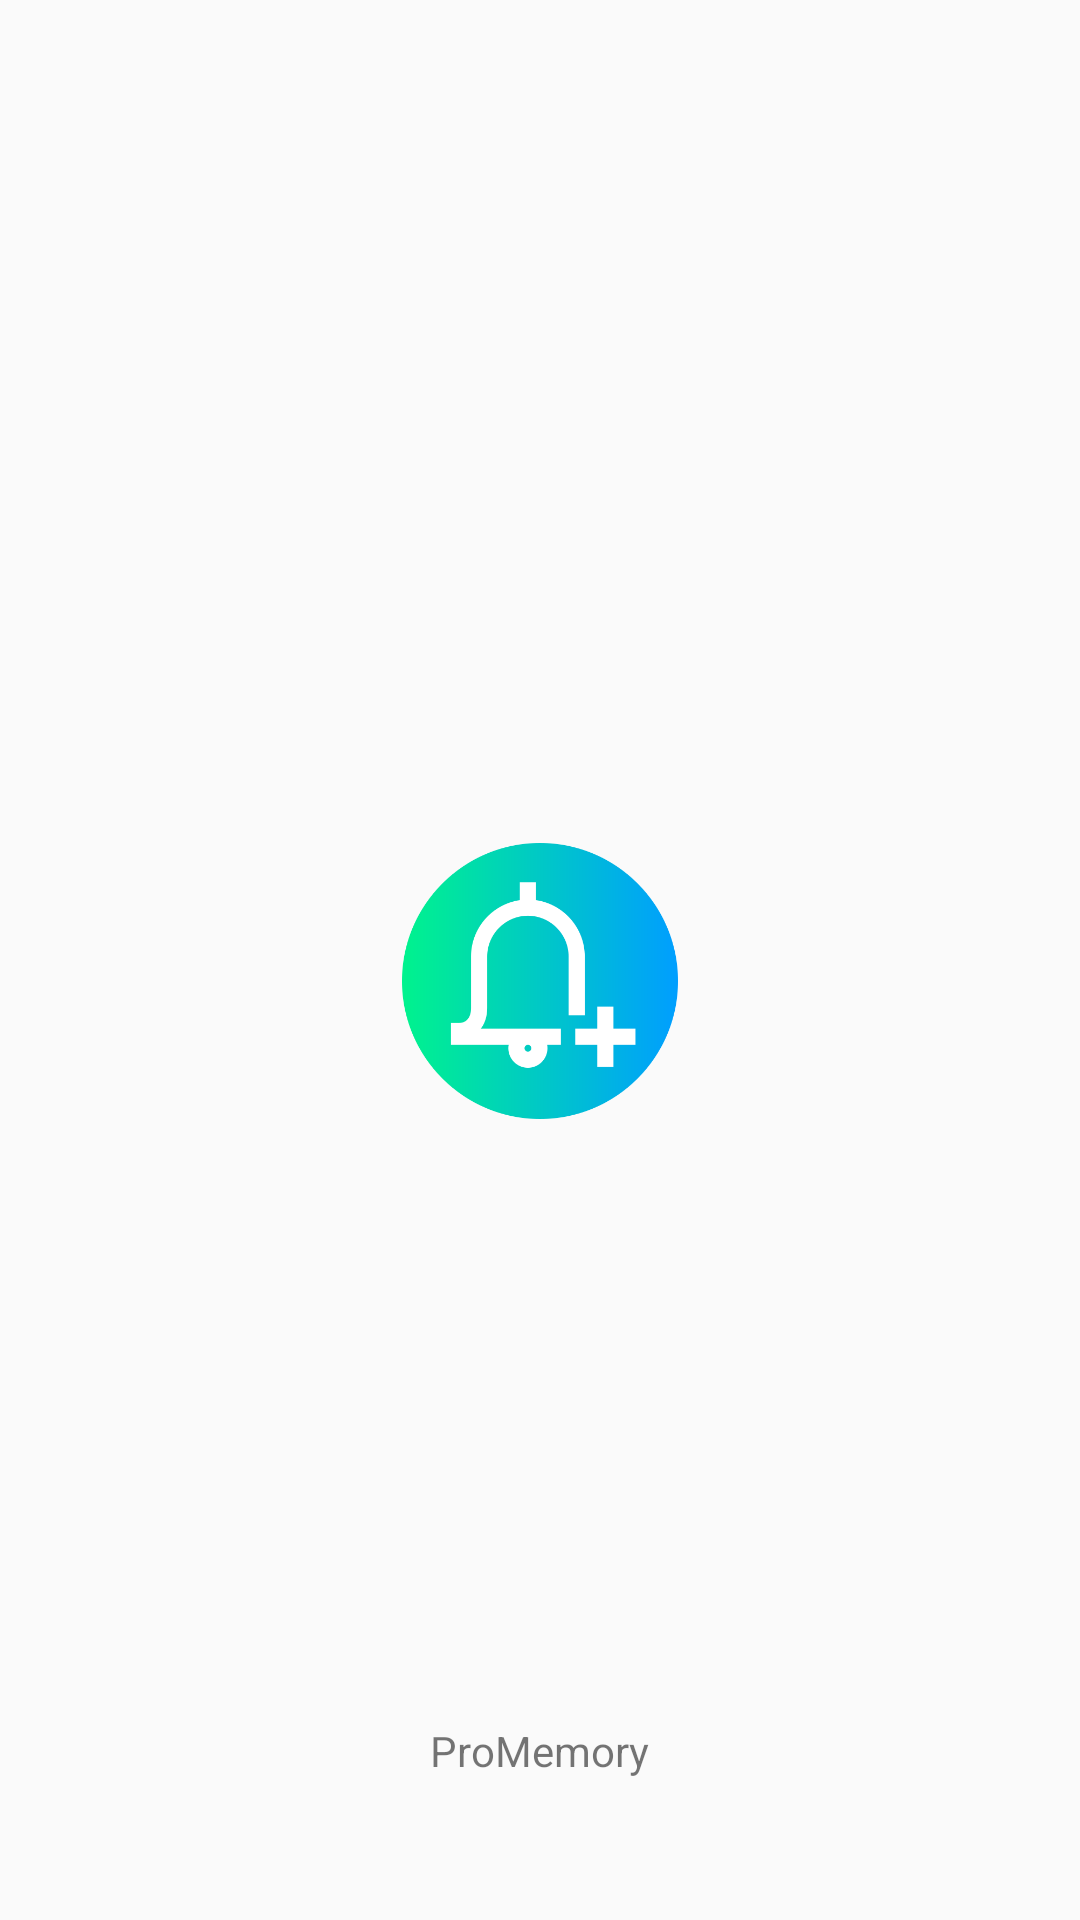

Point at icon controls on the screen. Image size 1080 x 1920, points as (x=x, y=y).
bell: (x=540, y=981)
